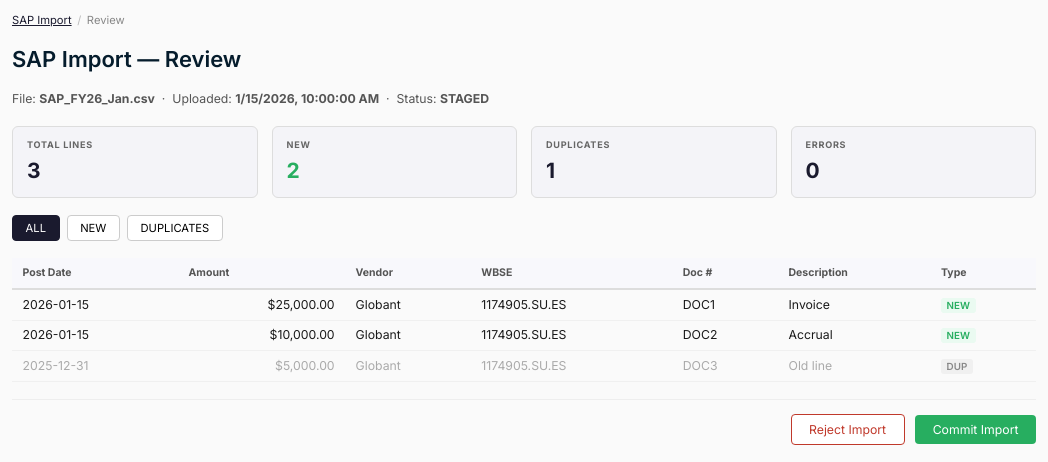
Test: ImportReview › filters lines by NEW
Expected: the text "Invoice" is shown, [778, 289, 930, 320]
Click the button "NEW".
click(93, 228)  # box [67, 215, 120, 241]
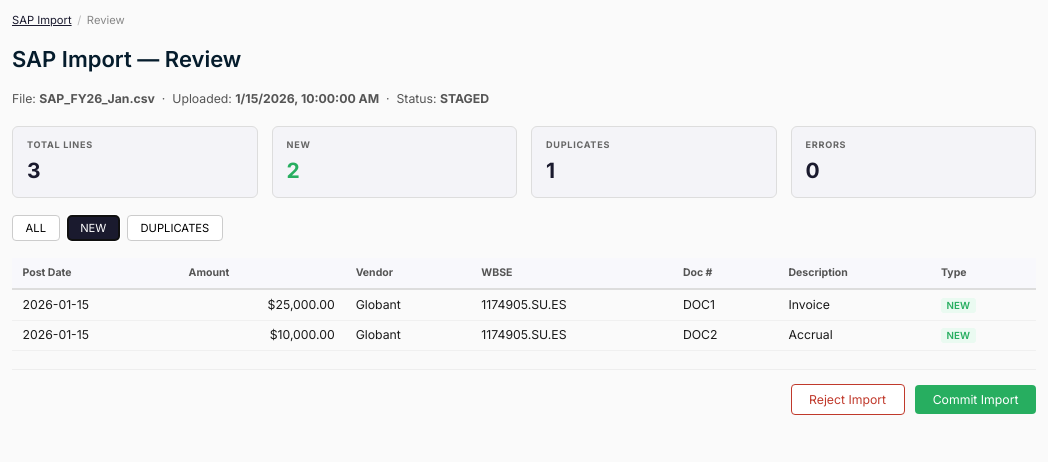
Expected: the text "Invoice" is shown, [778, 289, 930, 320]
Result: the text "Old line" is gone
